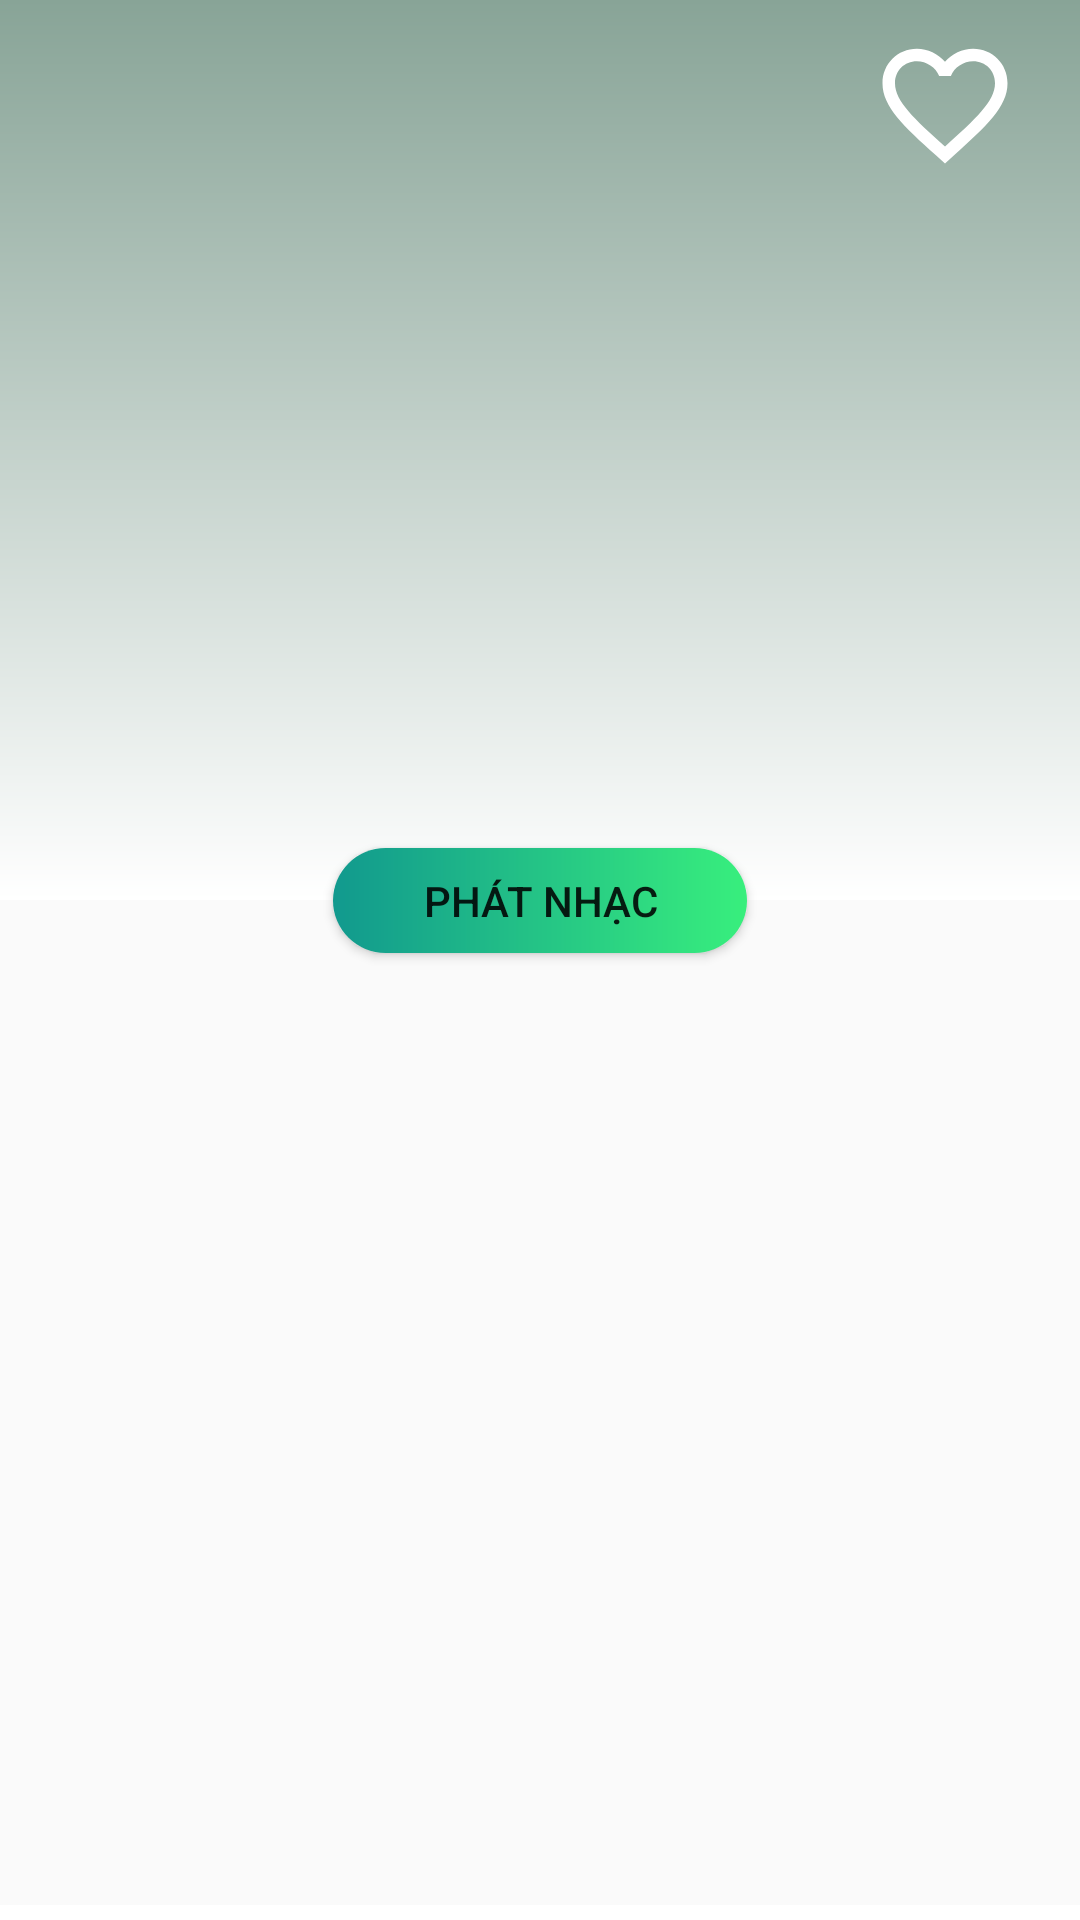

Where icons sit on this 1080x1920 app screen, as (x1, y1, x2, y2):
favorite border: (870, 48, 1020, 180)
